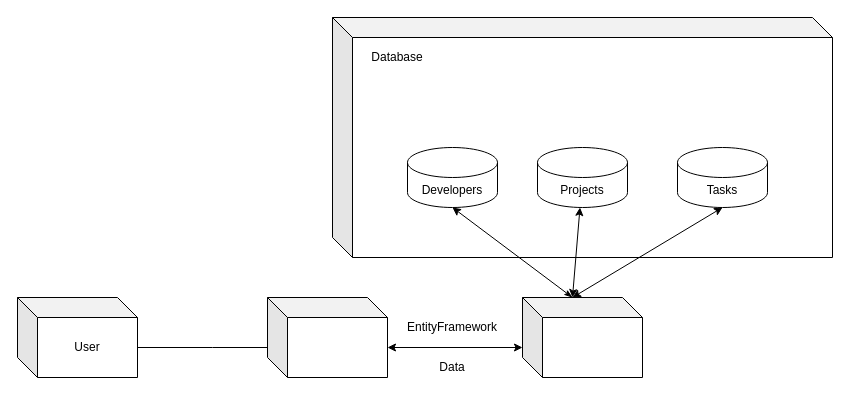
The diagram is 850 pixels wide and 395 high, and some of its shapes have lost their labels. Here are the shapes that lost their labels. From the top down, the centre of each, then its label:
point (327, 337): Application
point (582, 337): Database Server
